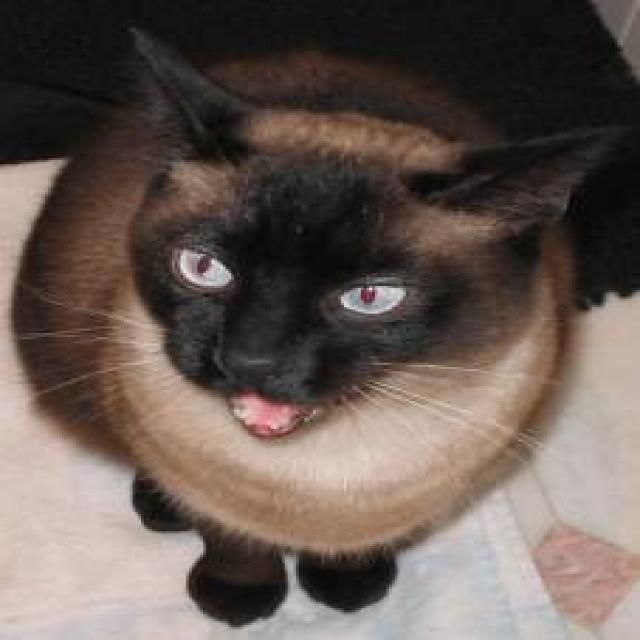Siamese: (99, 17, 634, 451)
